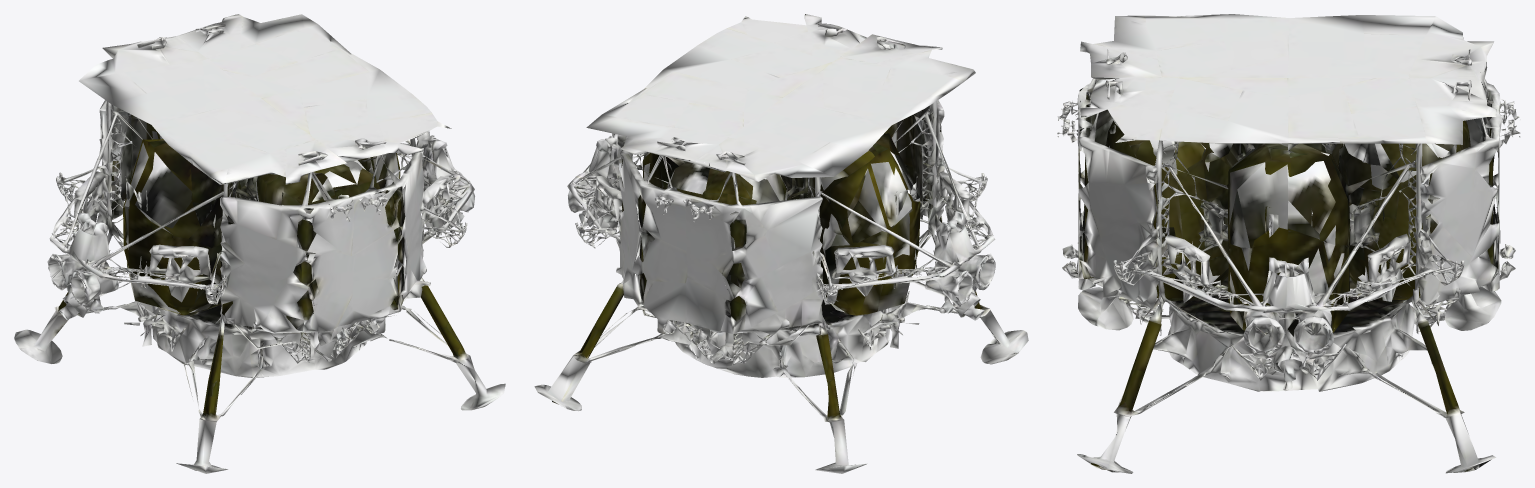
Rendered from peregrine-low.glb.
The picture shows the model from 3 angles, left to right: view 1: azimuth 30°, elevation 25°; view 2: azimuth 150°, elevation 25°; view 3: azimuth 270°, elevation 25°; orthographic projection. The views are drawn at different scales.
Bounding box in the file's own units: 1.9 × 1.32 × 1.69.
1 material, 1 textured.
